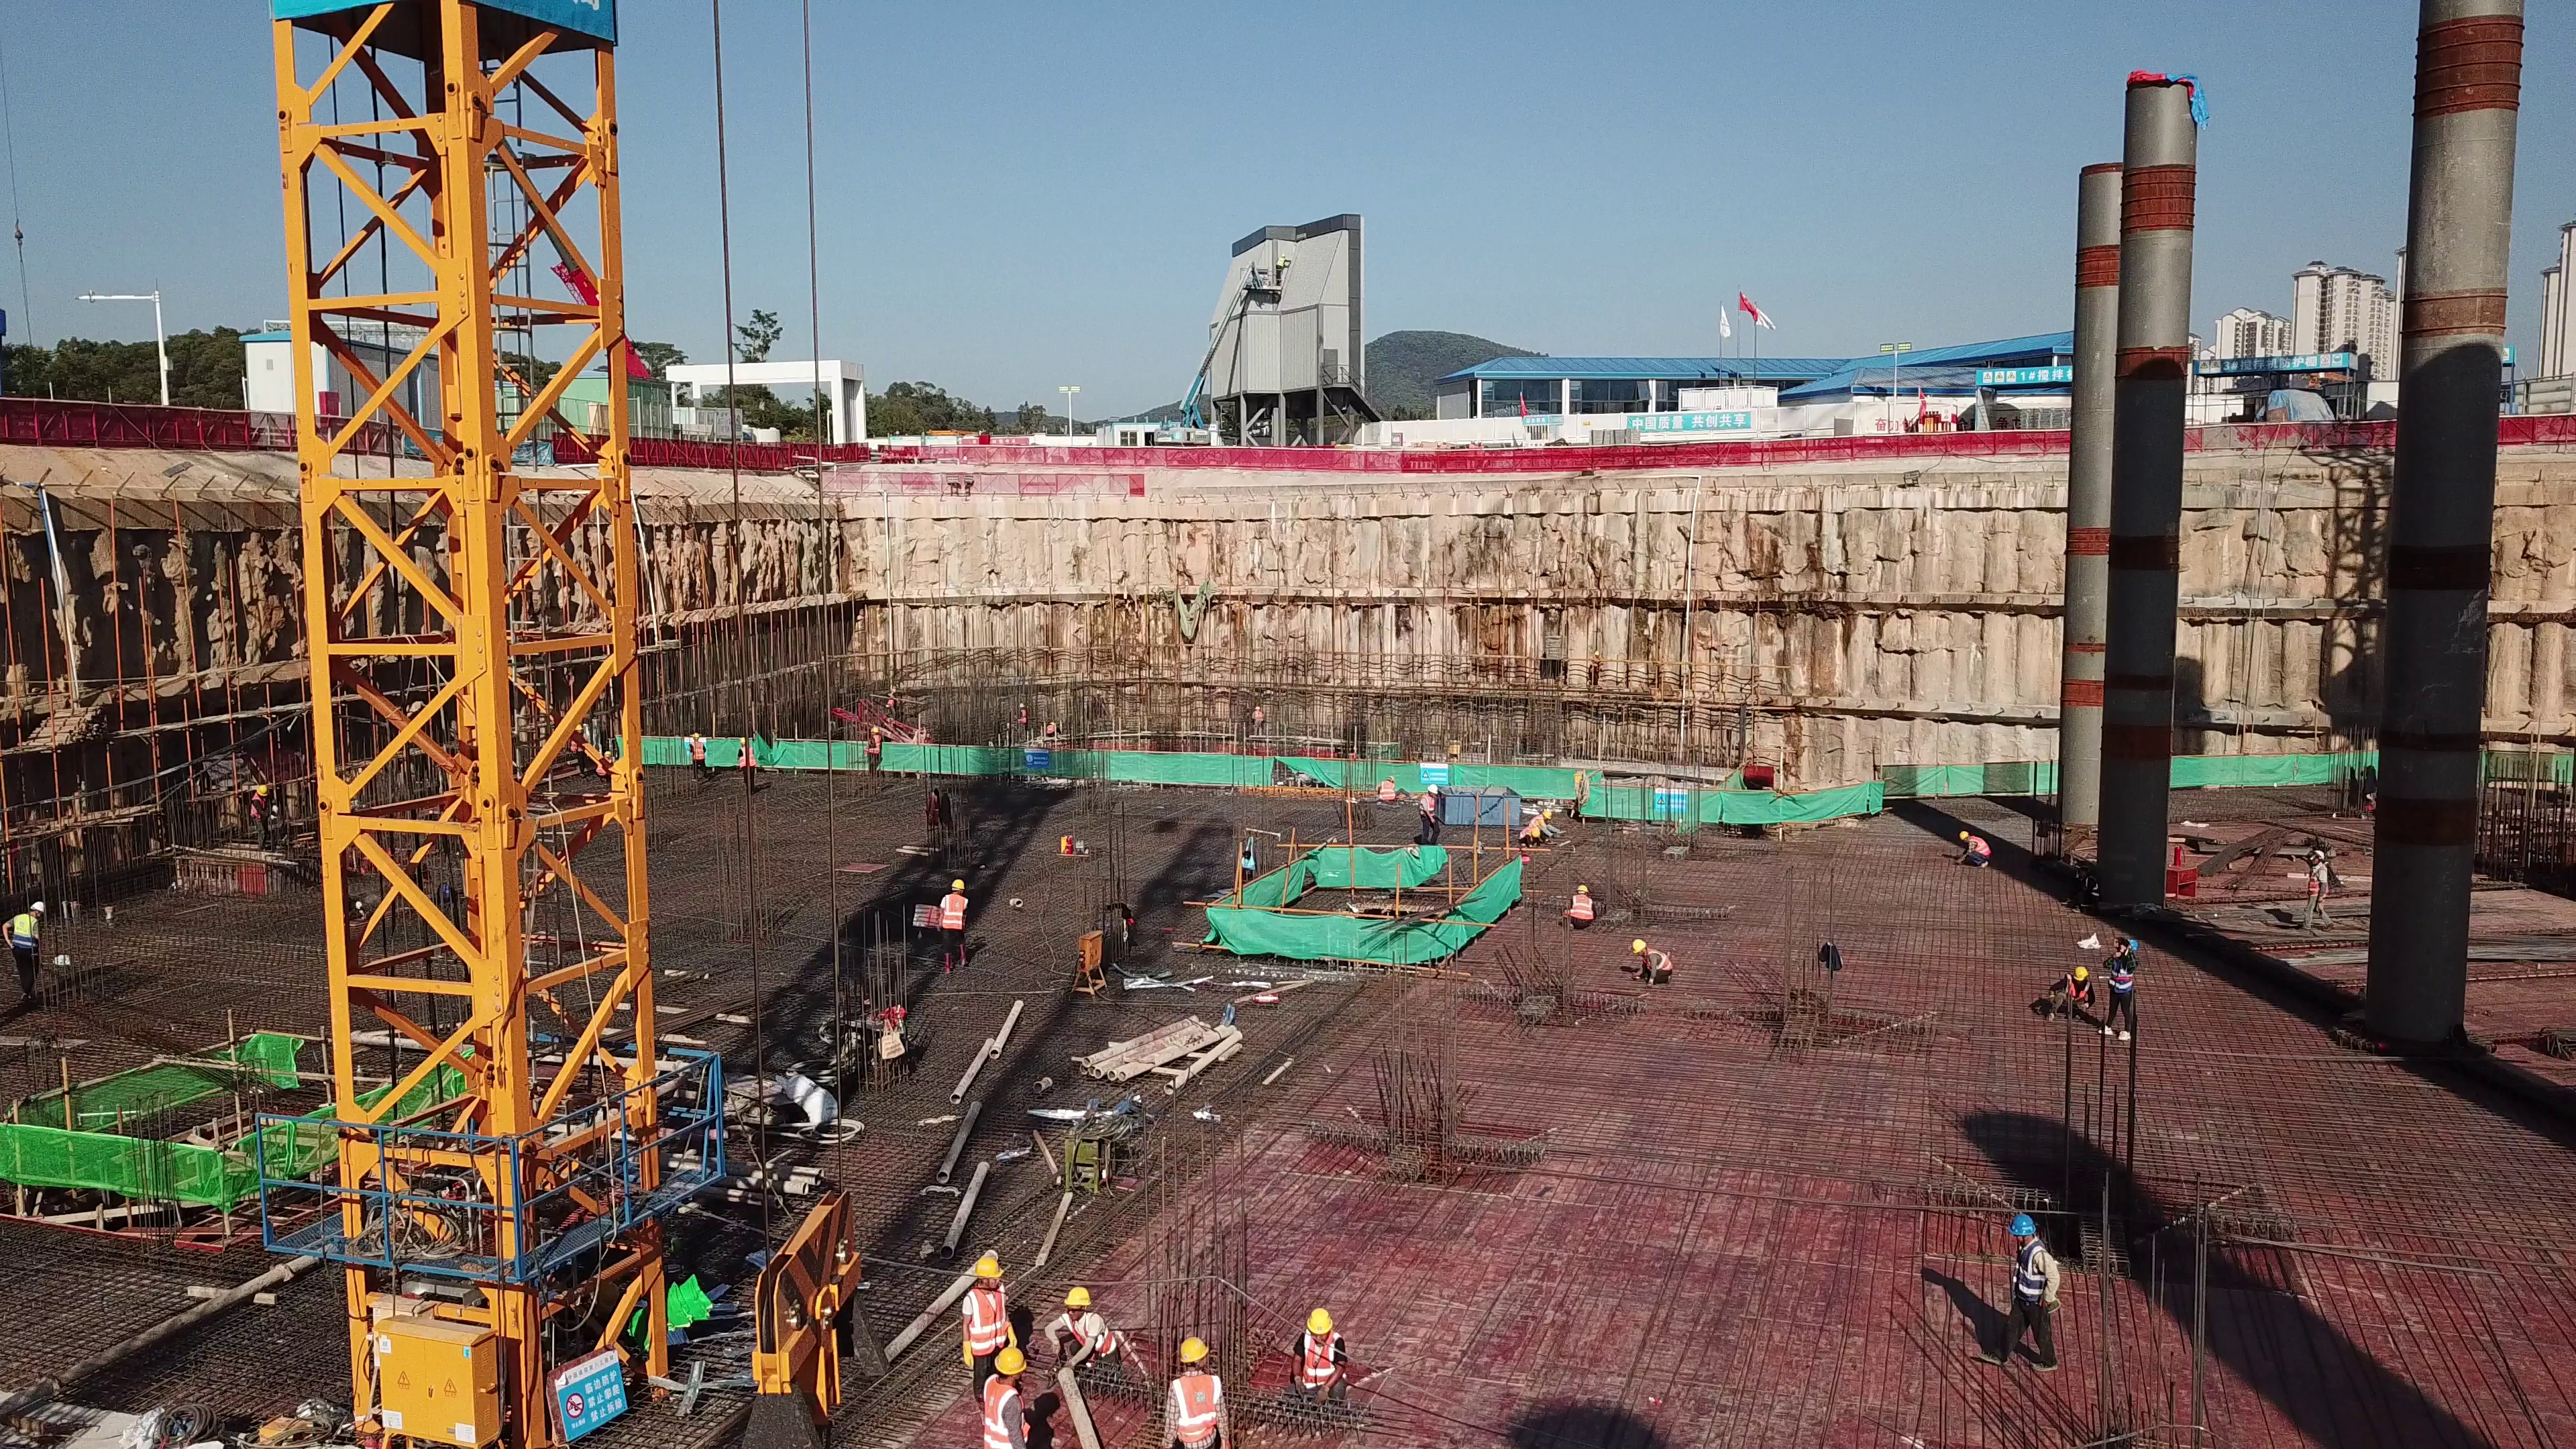helmet: (1175, 1330, 1215, 1364), (2008, 1209, 2037, 1240), (1300, 1307, 1332, 1332), (992, 1350, 1024, 1371), (972, 1256, 1002, 1276), (1059, 1290, 1090, 1308), (1630, 936, 1650, 957), (2308, 848, 2326, 863), (2070, 965, 2091, 979), (29, 900, 49, 914), (2118, 937, 2138, 953), (1428, 780, 1443, 795), (1576, 879, 1590, 894), (1544, 808, 1558, 818), (1531, 826, 1541, 839), (952, 879, 966, 889), (870, 724, 882, 734), (691, 729, 702, 739), (1957, 827, 1966, 839), (737, 738, 751, 744)
person: (1992, 1199, 2065, 1372), (1136, 1332, 1237, 1449), (1291, 1287, 1363, 1415), (1040, 1282, 1132, 1383), (951, 1248, 1023, 1351), (7, 890, 56, 1007), (979, 1345, 1031, 1449), (2102, 930, 2146, 1046), (936, 878, 973, 985), (2299, 848, 2337, 932), (2048, 962, 2098, 1019), (241, 778, 275, 853), (1629, 940, 1675, 990), (681, 726, 716, 784), (859, 725, 895, 779), (1956, 828, 1997, 871), (1565, 879, 1596, 934), (1419, 784, 1442, 841), (570, 719, 590, 778), (590, 743, 623, 782), (736, 735, 757, 788), (1376, 771, 1404, 808), (1248, 704, 1271, 737), (1527, 809, 1557, 828), (1515, 826, 1543, 847), (1016, 701, 1029, 734), (1042, 720, 1057, 739)
vest: (1171, 1377, 1229, 1438), (968, 1283, 1012, 1346), (2014, 1243, 2051, 1311), (985, 1381, 1028, 1439), (1301, 1338, 1344, 1390), (1067, 1313, 1120, 1352), (2108, 955, 2140, 1001), (944, 893, 969, 933), (8, 918, 38, 953), (2309, 866, 2332, 898), (2062, 983, 2090, 1011), (1646, 947, 1674, 971), (1573, 893, 1596, 922), (739, 745, 758, 771), (1968, 836, 1988, 859), (1381, 781, 1399, 803), (1419, 799, 1439, 821), (868, 737, 884, 761), (691, 742, 704, 759), (1529, 813, 1542, 825)
